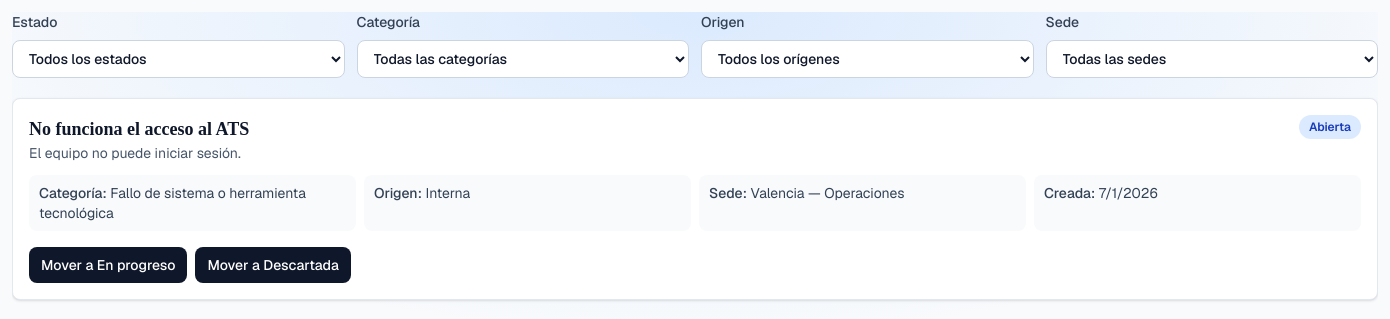
Test case: IncidentList › muestra mensaje de sin resultados cuando los filtros no coinciden con nada
Expected: the heading "No funciona el acceso al ATS" is shown, x1=29 y1=115 x2=249 y2=143
Select "Queja o reclamación de cliente" in the dropdown labelled "Categoría" at (523, 59), box x1=356 y1=40 x2=689 y2=78
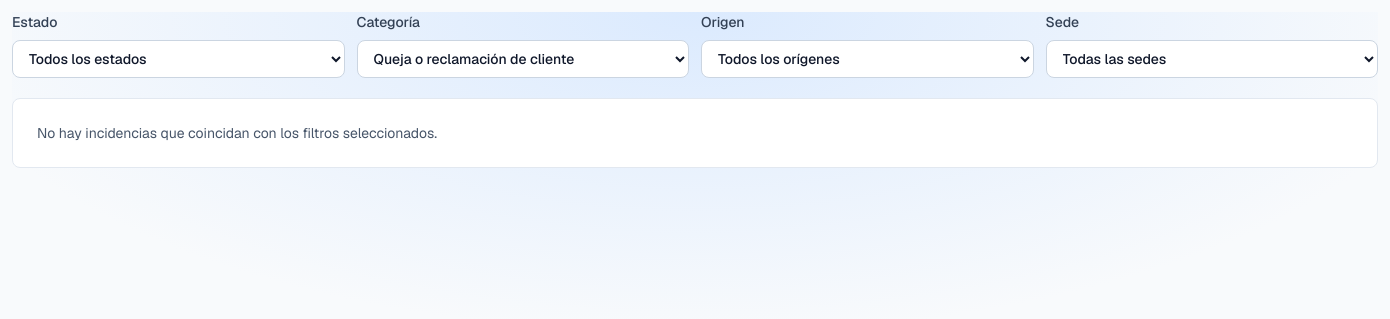
Now the text "No hay incidencias que coincidan con los filtros seleccionados." is shown, box x1=12 y1=98 x2=1378 y2=168
Now the heading "No funciona el acceso al ATS" is gone
